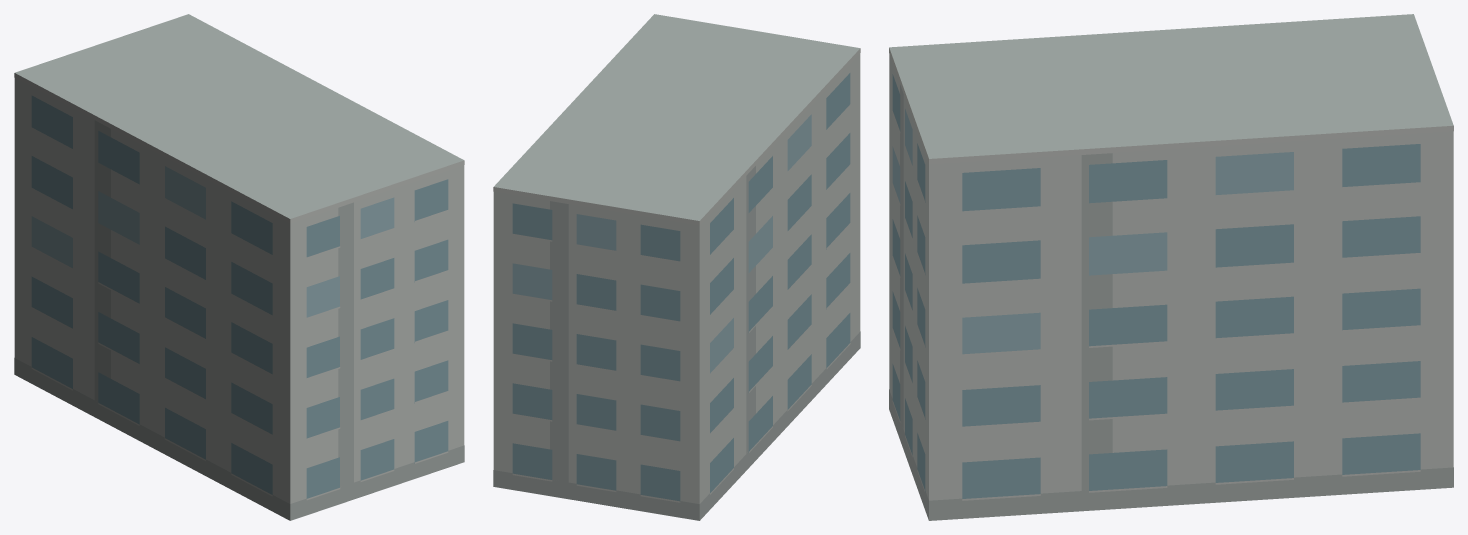
Rendered from residential-3c0c52f3-76ed-4215-a6a2-dae7164a2b46.glb.
3 renders of one model, left to right at view 1: azimuth 30°, elevation 25°; view 2: azimuth 150°, elevation 25°; view 3: azimuth 270°, elevation 25°, orthographic. The views are drawn at different scales.
Parts seen in each view (by area): view 1: residential-3c0c52f3-76ed-4215-a6a2-dae7164a2b46.tmp; view 2: residential-3c0c52f3-76ed-4215-a6a2-dae7164a2b46.tmp; view 3: residential-3c0c52f3-76ed-4215-a6a2-dae7164a2b46.tmp.
Boxes of the visible parts, x1,y1,x2,y2 form: residential-3c0c52f3-76ed-4215-a6a2-dae7164a2b46.tmp: (14,14,464,520); residential-3c0c52f3-76ed-4215-a6a2-dae7164a2b46.tmp: (493,14,860,520); residential-3c0c52f3-76ed-4215-a6a2-dae7164a2b46.tmp: (889,14,1453,520).
Bounding box in the file's own units: 13.11 × 15.25 × 21.57.
